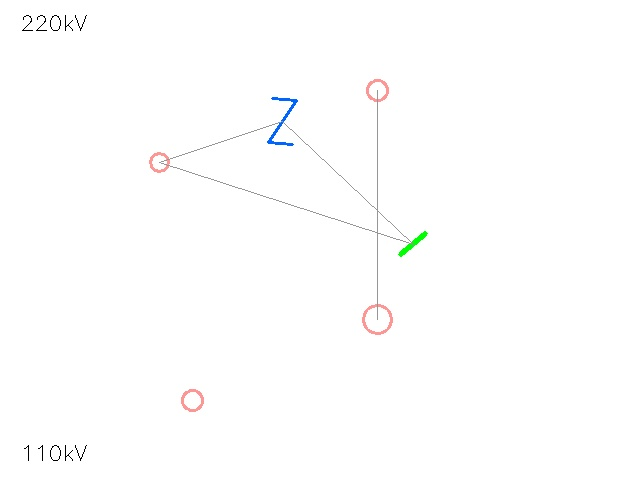busbar: (393, 224, 433, 264)
circuit_breaker: (257, 96, 307, 146)
current_transformer: (141, 144, 177, 180)
feeder_terminal: (172, 380, 212, 420)
voltage_transformer: (349, 291, 405, 347), (357, 70, 397, 110)
